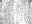person: (14, 1, 18, 5), (21, 20, 25, 24)
